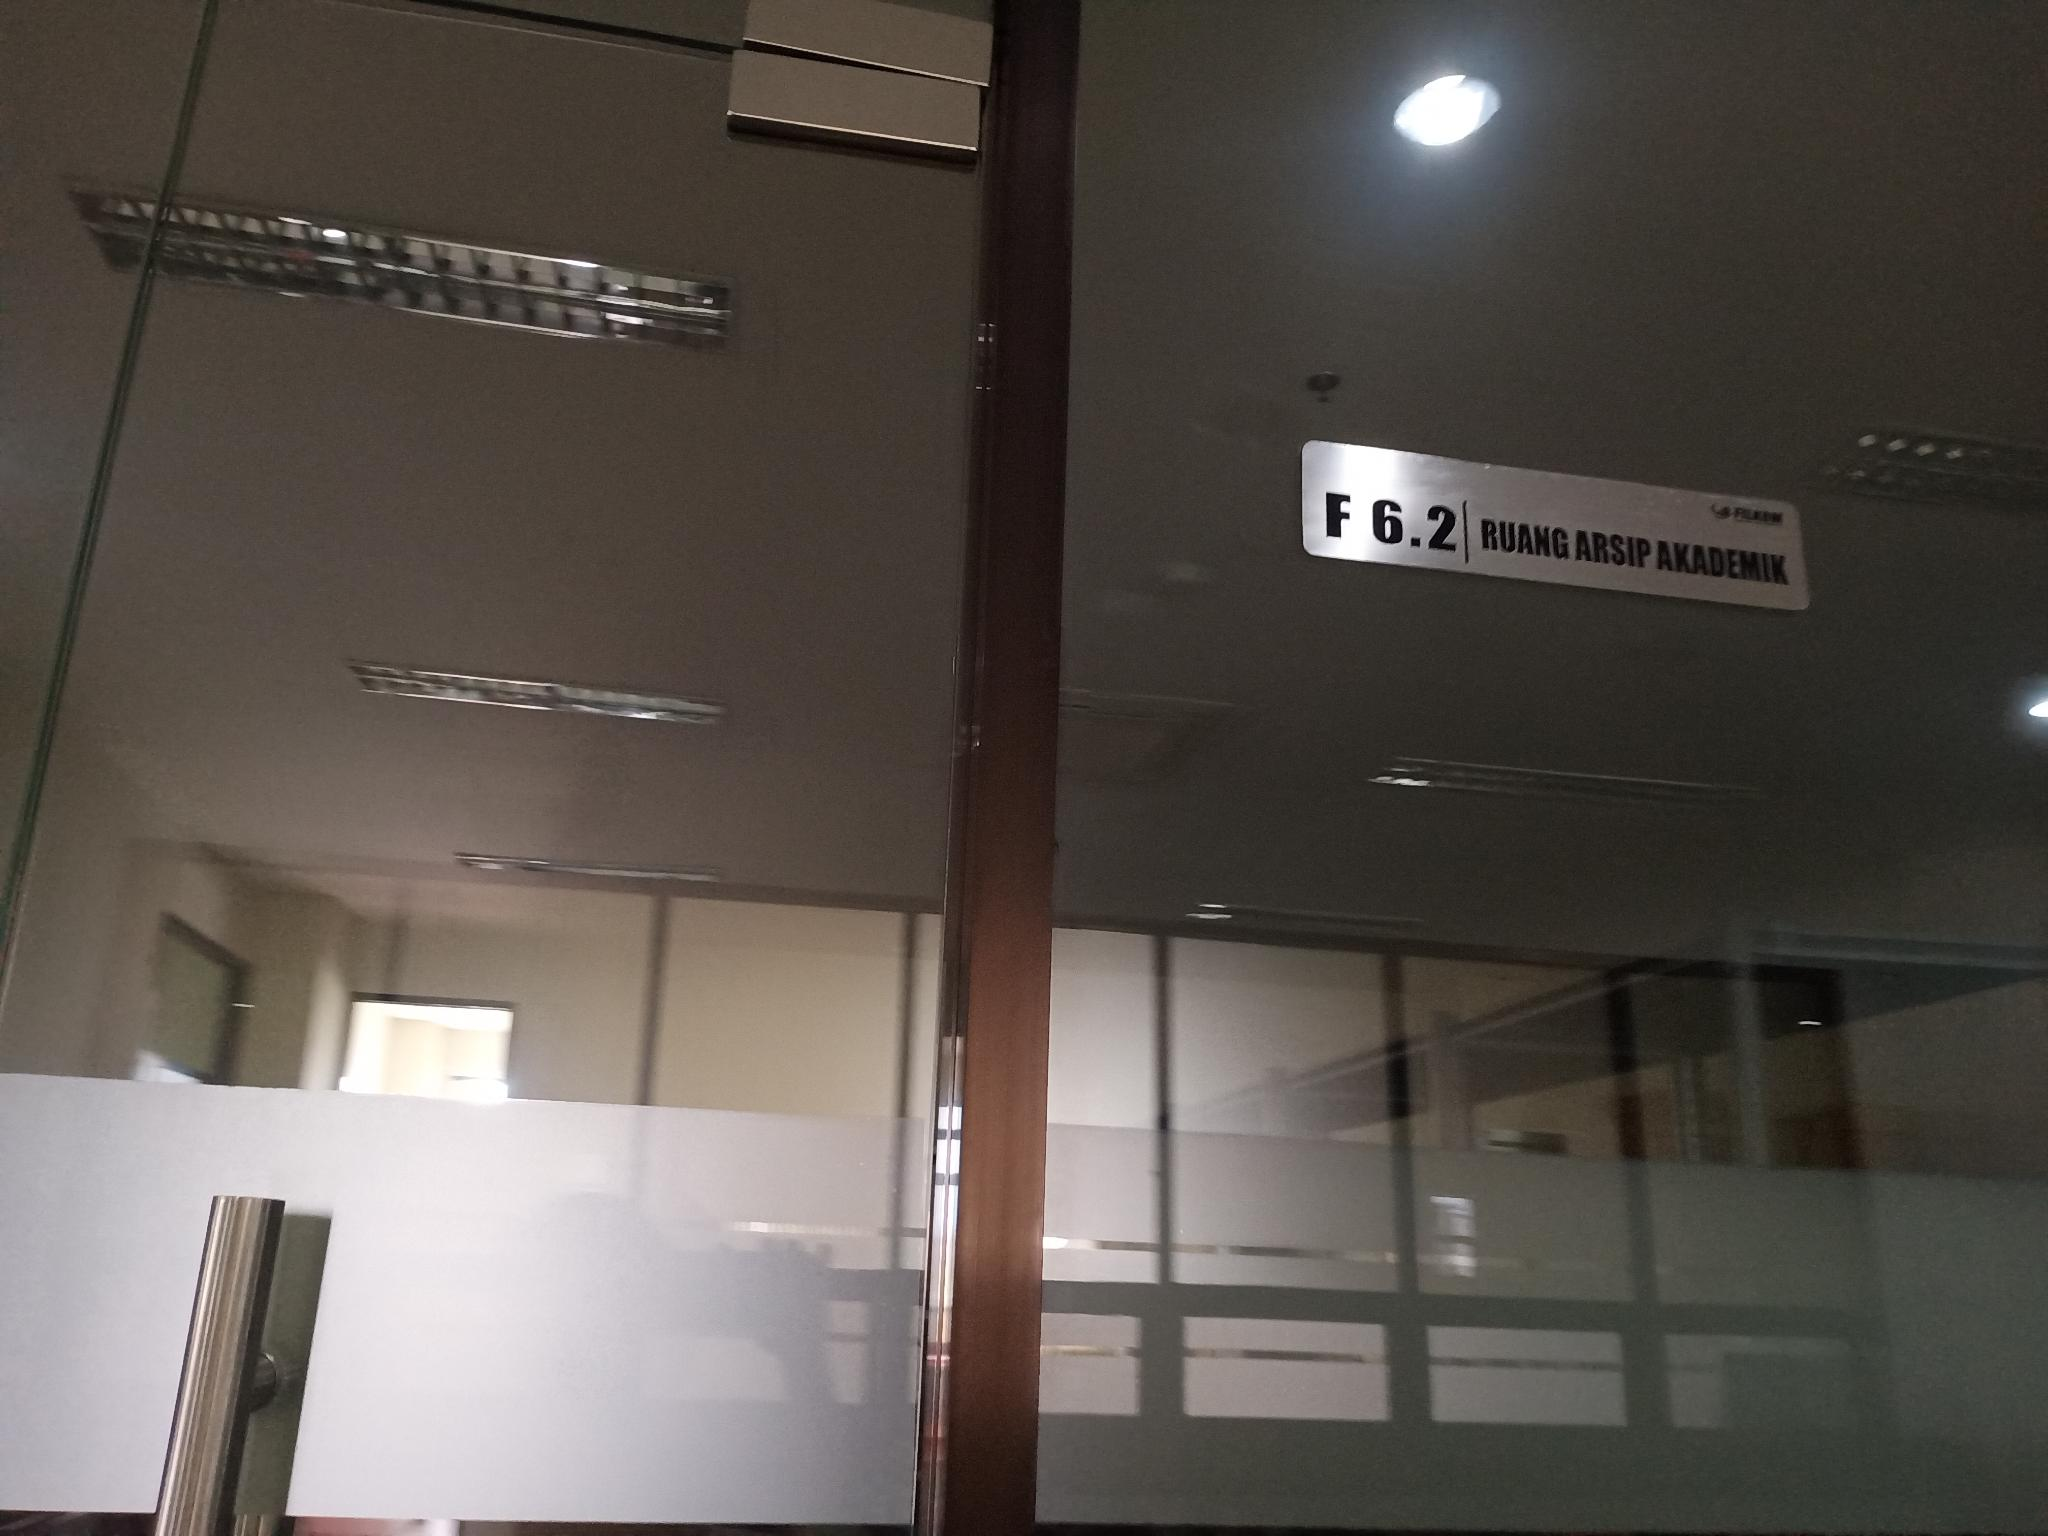plate: (1298, 439, 1811, 610)
